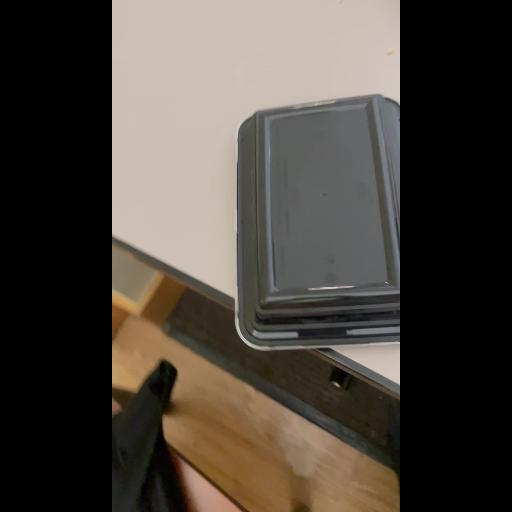rigid_plastic_container: (238, 98, 400, 348)
